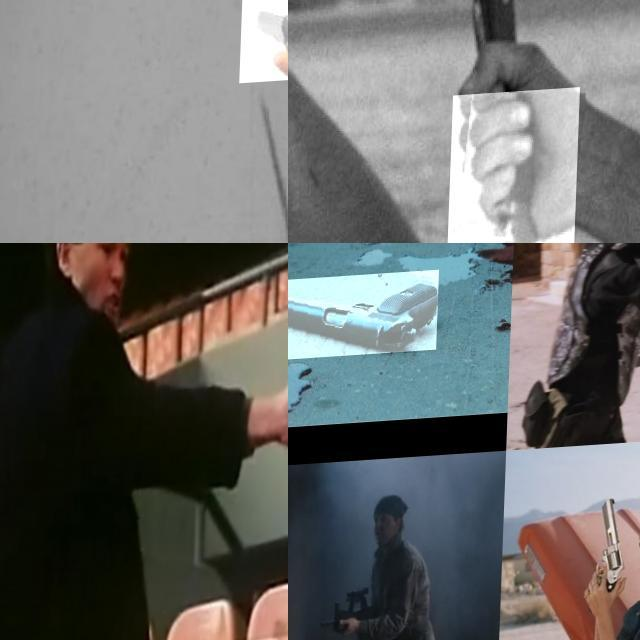-: (444, 91, 581, 243), (241, 0, 288, 87)
gun-knife-thesis - v11 Yolov5 augmented: (288, 273, 440, 361), (593, 492, 632, 610), (318, 587, 389, 640)
